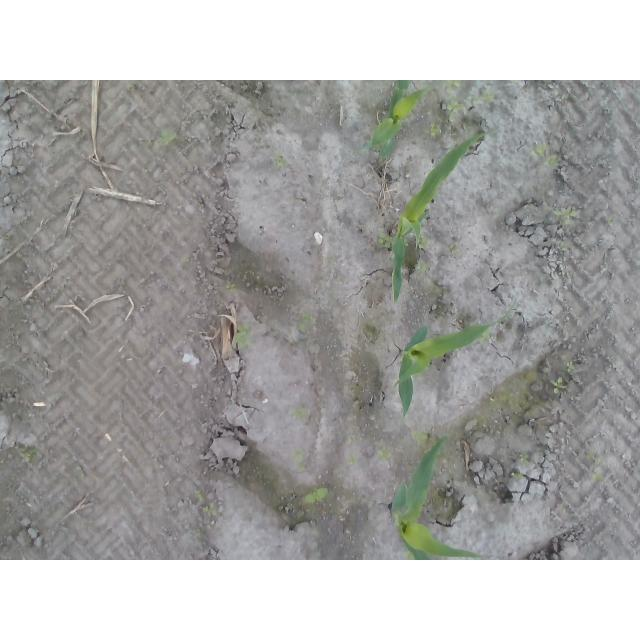Maize: (390, 134, 493, 306), (385, 433, 486, 560), (397, 315, 507, 417), (360, 81, 436, 164)
Weeds: (193, 490, 217, 518), (533, 144, 559, 167), (301, 485, 329, 504), (298, 311, 318, 333), (233, 325, 251, 347), (552, 205, 577, 220), (425, 122, 443, 139), (477, 91, 498, 105), (294, 448, 307, 470), (444, 100, 464, 113), (550, 376, 566, 392), (19, 448, 34, 464), (415, 431, 430, 446), (162, 130, 179, 143), (378, 448, 395, 461), (448, 241, 462, 255), (377, 233, 391, 246), (419, 235, 430, 249), (445, 80, 462, 89), (565, 360, 576, 373), (518, 453, 531, 464), (225, 281, 236, 291), (510, 471, 522, 480)
